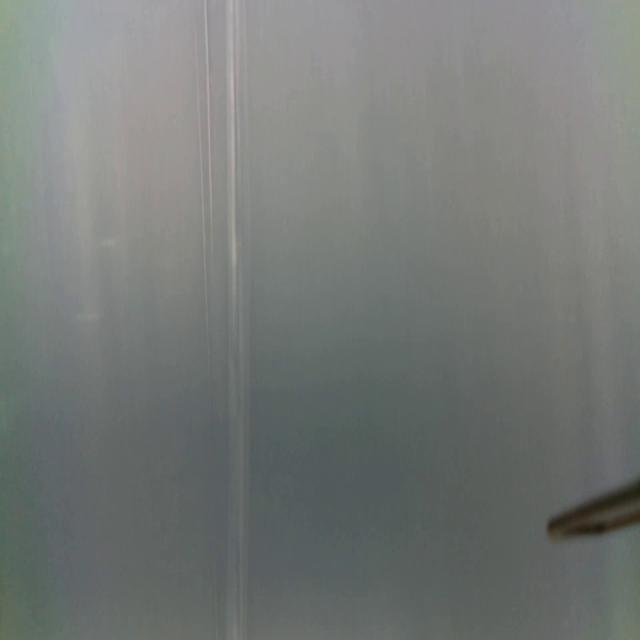crease: (193, 0, 219, 640), (224, 0, 250, 640)
